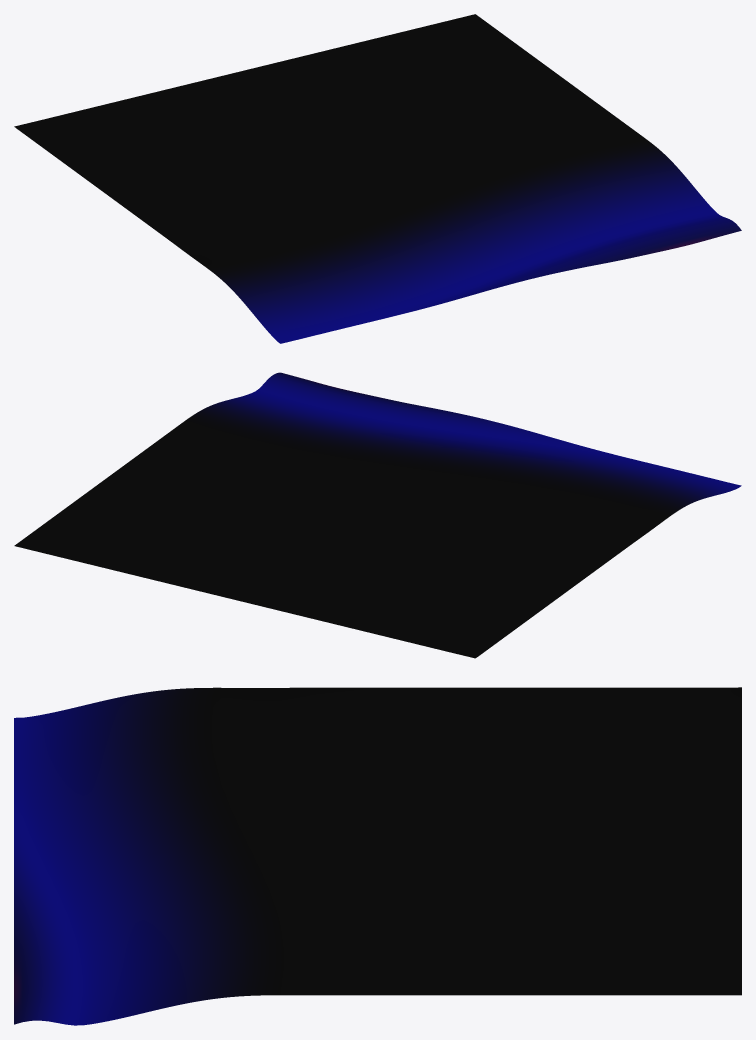
File: SM_FutureCity_Terrain_0_3.fbx
3 renders of one model, top to bottom at view 1: azimuth 30°, elevation 25°; view 2: azimuth 150°, elevation 25°; view 3: azimuth 270°, elevation 25°, orthographic. The views are drawn at different scales.
Visible parts, largest first — view 1: SM_FutureCity_Terrain_0_3; view 2: SM_FutureCity_Terrain_0_3; view 3: SM_FutureCity_Terrain_0_3.
Part boxes in pixels (x1,y1,x2,y2): SM_FutureCity_Terrain_0_3: [14, 14, 741, 343]; SM_FutureCity_Terrain_0_3: [14, 372, 741, 658]; SM_FutureCity_Terrain_0_3: [14, 687, 741, 1025].
Size of the model in its own units: 50400 by 2412 by 50400.
